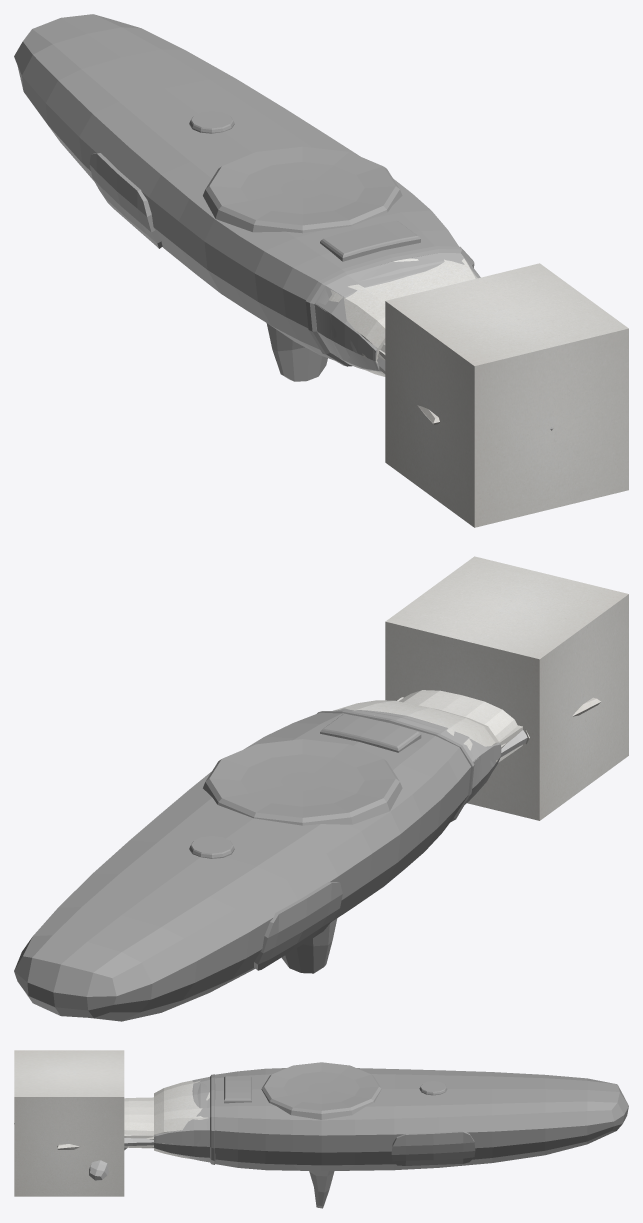
Rendered from Controller_GeoV006.fbx.
The picture shows the model from 3 angles, top to bottom: view 1: azimuth 30°, elevation 25°; view 2: azimuth 150°, elevation 25°; view 3: azimuth 270°, elevation 25°; orthographic projection. The views are drawn at different scales.
Parts seen in each view (by area): view 1: Shape_Square_Geo, bpdy_Geo, centerButton_Geo, deleteHead_Geo, paintHead, gripRight_Geo, topButton_Geo, mouthLip_Geo, zClick_Geo, PlierHead_Geo, bottomButton_Geo, shapeHead_Geo; view 2: bpdy_Geo, Shape_Square_Geo, centerButton_Geo, gripRight_Geo, EraserdeleteTool_Geo, deleteHead_Geo, topButton_Geo, zClick_Geo, paintHead, mouthLip_Geo, bottomButton_Geo; view 3: bpdy_Geo, Shape_Square_Geo, centerButton_Geo, gripLeft_Geo, deleteHead_Geo, paintHead, EraserdeleteTool_Geo, topButton_Geo, zClick_Geo, PlierHead_Geo, mouthLip_Geo, handGrab_Geo (+2 smaller).
Boxes of the visible parts, x1,y1,x2,y2 form: Shape_Square_Geo: (385,263,628,527); bpdy_Geo: (14,14,458,360); centerButton_Geo: (203,146,402,233); deleteHead_Geo: (329,254,477,376); paintHead: (315,253,480,369); gripRight_Geo: (89,153,162,248); topButton_Geo: (320,220,420,261); mouthLip_Geo: (305,246,474,366); zClick_Geo: (266,323,327,381); PlierHead_Geo: (314,253,472,371); bottomButton_Geo: (189,111,234,133); shapeHead_Geo: (358,255,444,281); bpdy_Geo: (14,713,470,1021); Shape_Square_Geo: (385,556,628,820); centerButton_Geo: (203,739,402,825); gripRight_Geo: (254,882,342,970); EraserdeleteTool_Geo: (399,690,517,748); deleteHead_Geo: (334,700,498,761); topButton_Geo: (320,713,421,752); zClick_Geo: (281,918,337,973); paintHead: (336,708,501,802); mouthLip_Geo: (317,710,474,822); bottomButton_Geo: (189,836,234,858); bpdy_Geo: (215,1068,628,1170); Shape_Square_Geo: (14,1050,124,1196); centerButton_Geo: (261,1062,381,1119); gripLeft_Geo: (391,1131,475,1165); deleteHead_Geo: (154,1080,209,1159); paintHead: (154,1077,209,1157); EraserdeleteTool_Geo: (124,1097,153,1148); topButton_Geo: (224,1076,251,1103); zClick_Geo: (309,1171,334,1208); PlierHead_Geo: (154,1091,209,1162); mouthLip_Geo: (210,1074,215,1164); handGrab_Geo: (14,1123,127,1180).
Size of the model in its own units: 5.02 by 5.22 by 22.01.
